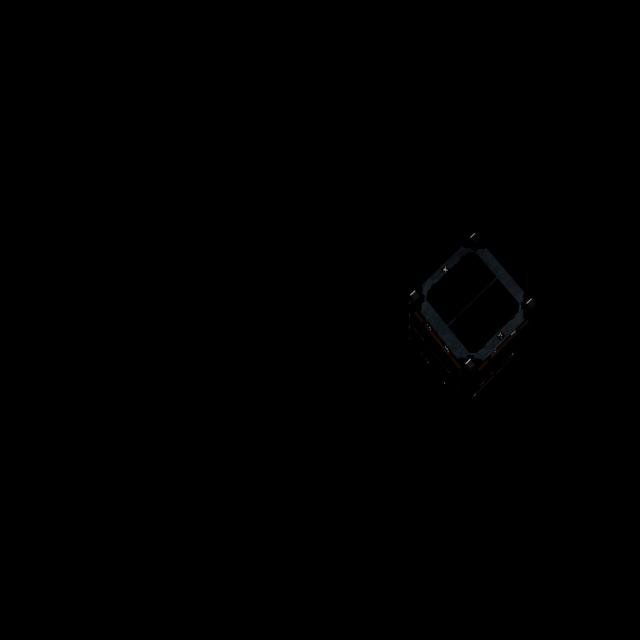satellite: (402, 225, 542, 409)
